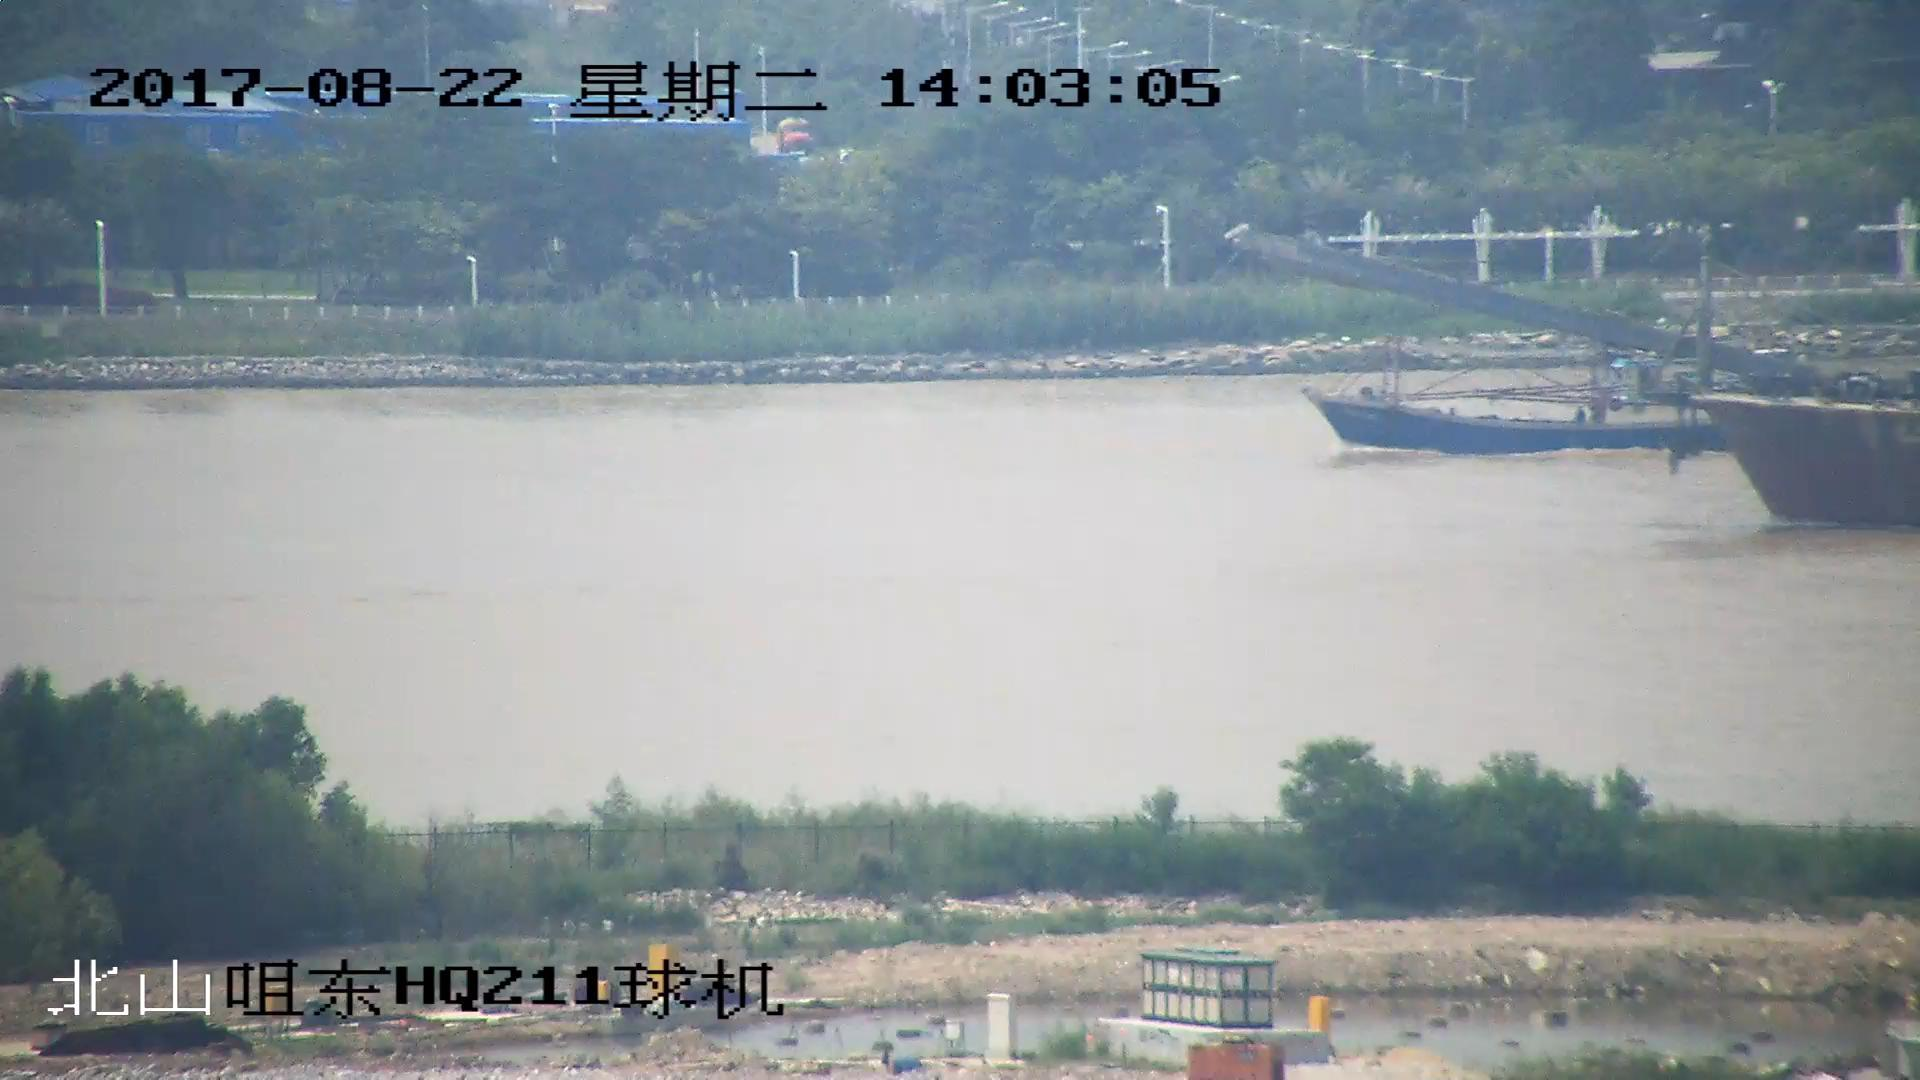Ship: (1234, 225, 1920, 529), (1303, 342, 1734, 459)
